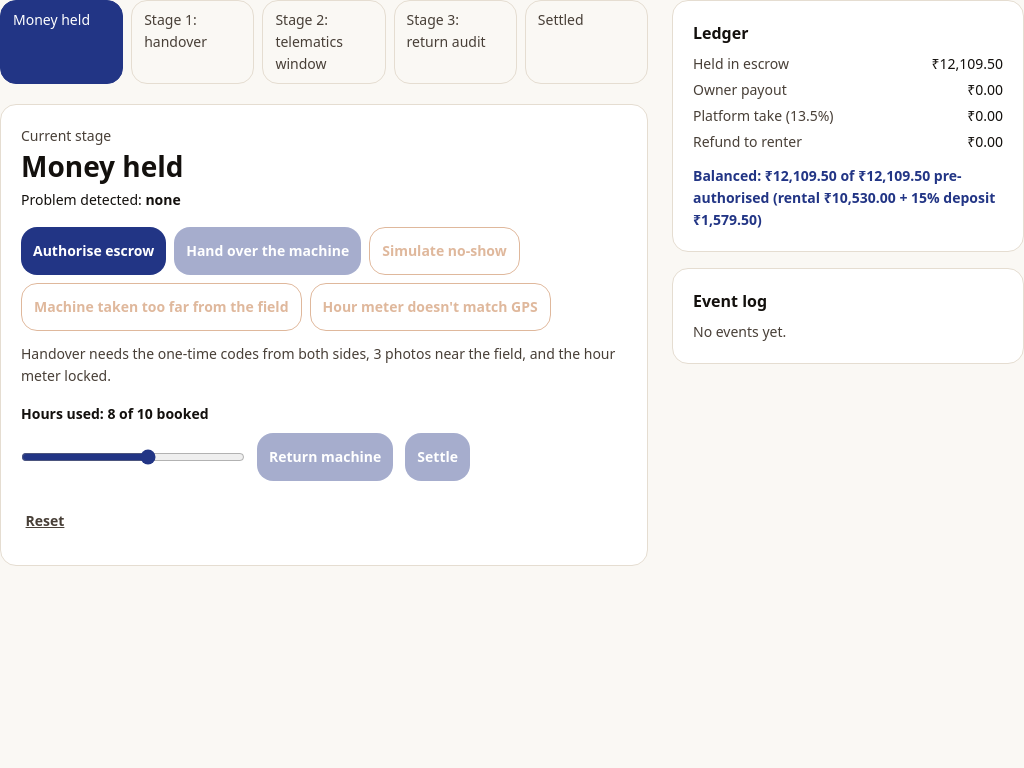
Test: EscrowStateMachine › geofence breach opens a dispute and freezes the deposit
Click the button "Authorise escrow" at (94, 251), box [21,227,166,275]
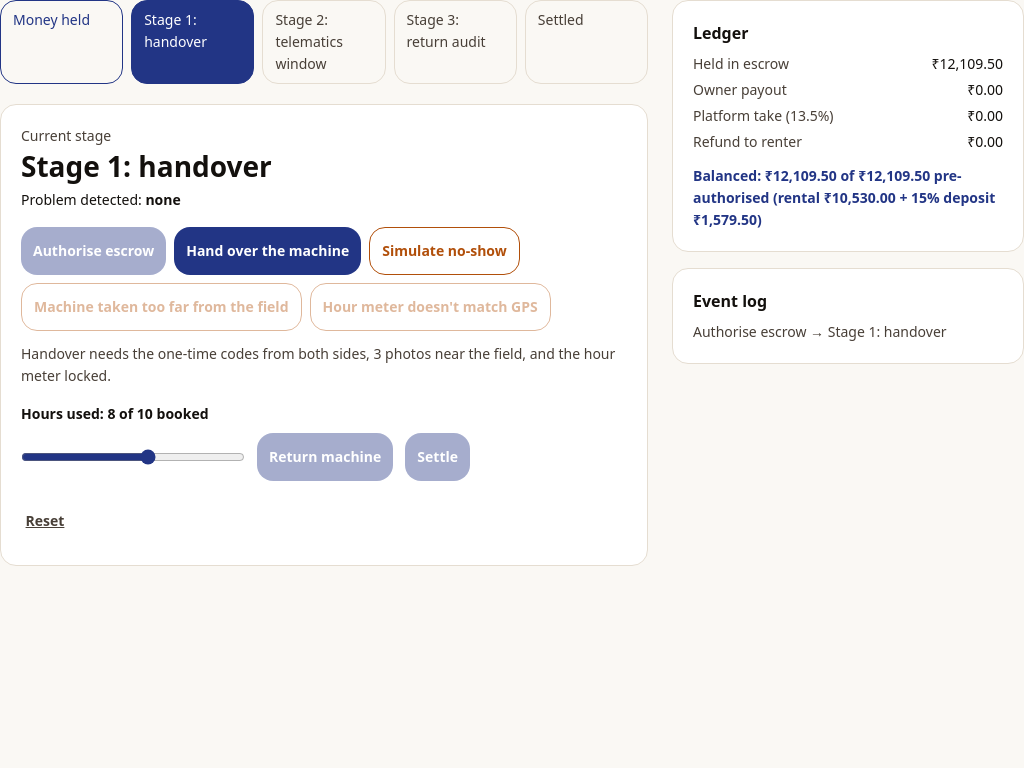
Click the button "Hand over the machine" at (268, 251), box [174,227,361,275]
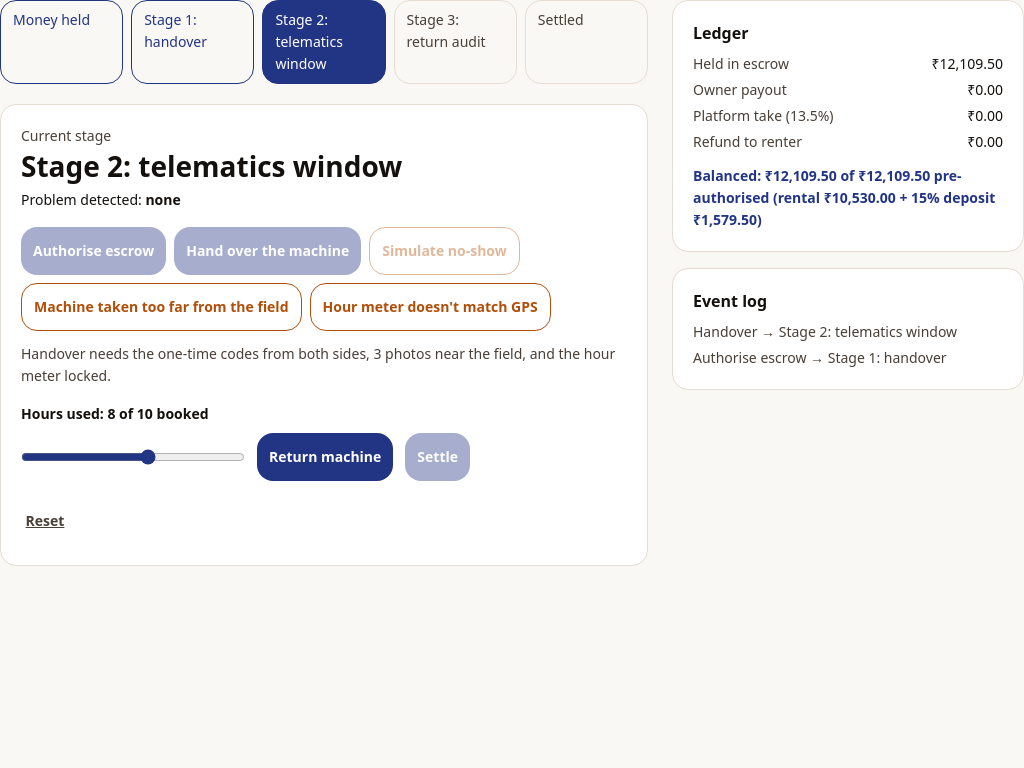
Click the button "Machine taken too far from the field" at (161, 307), box [21,283,302,331]
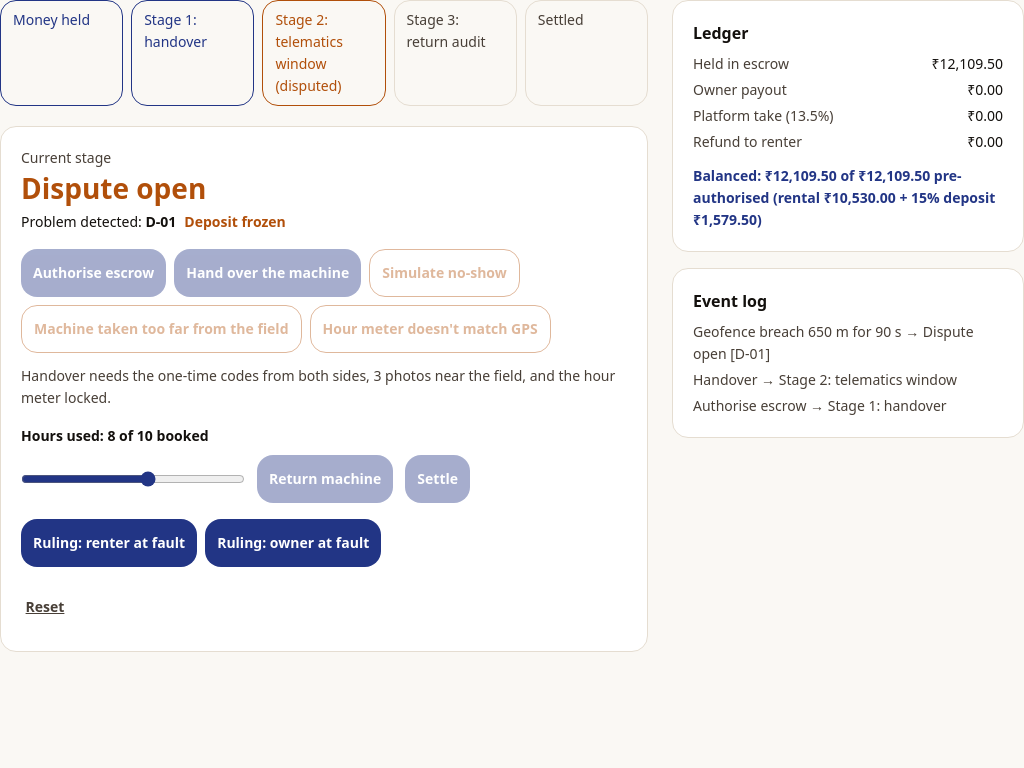
Check: the text with test id "escrow-stage" shows "Dispute", box [21,169,206,207]
Check: the text with test id "rule-fired" reads "D-01", box [145,212,176,231]
Check: the list item "Stage 2: telematics window (disputed)" is shown, box [262,0,386,106]
